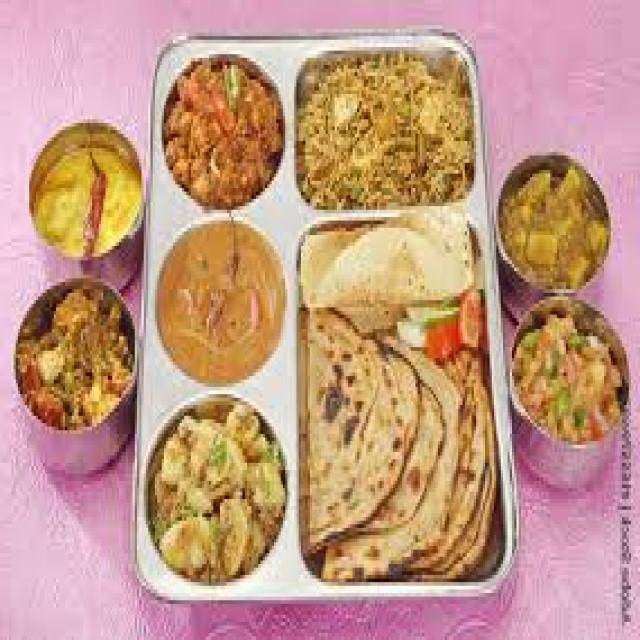dal: (501, 167, 609, 285)
papad: (307, 197, 479, 323)
rice: (292, 45, 472, 233)
roti: (307, 324, 492, 572)
veg-fry: (150, 401, 288, 580)
